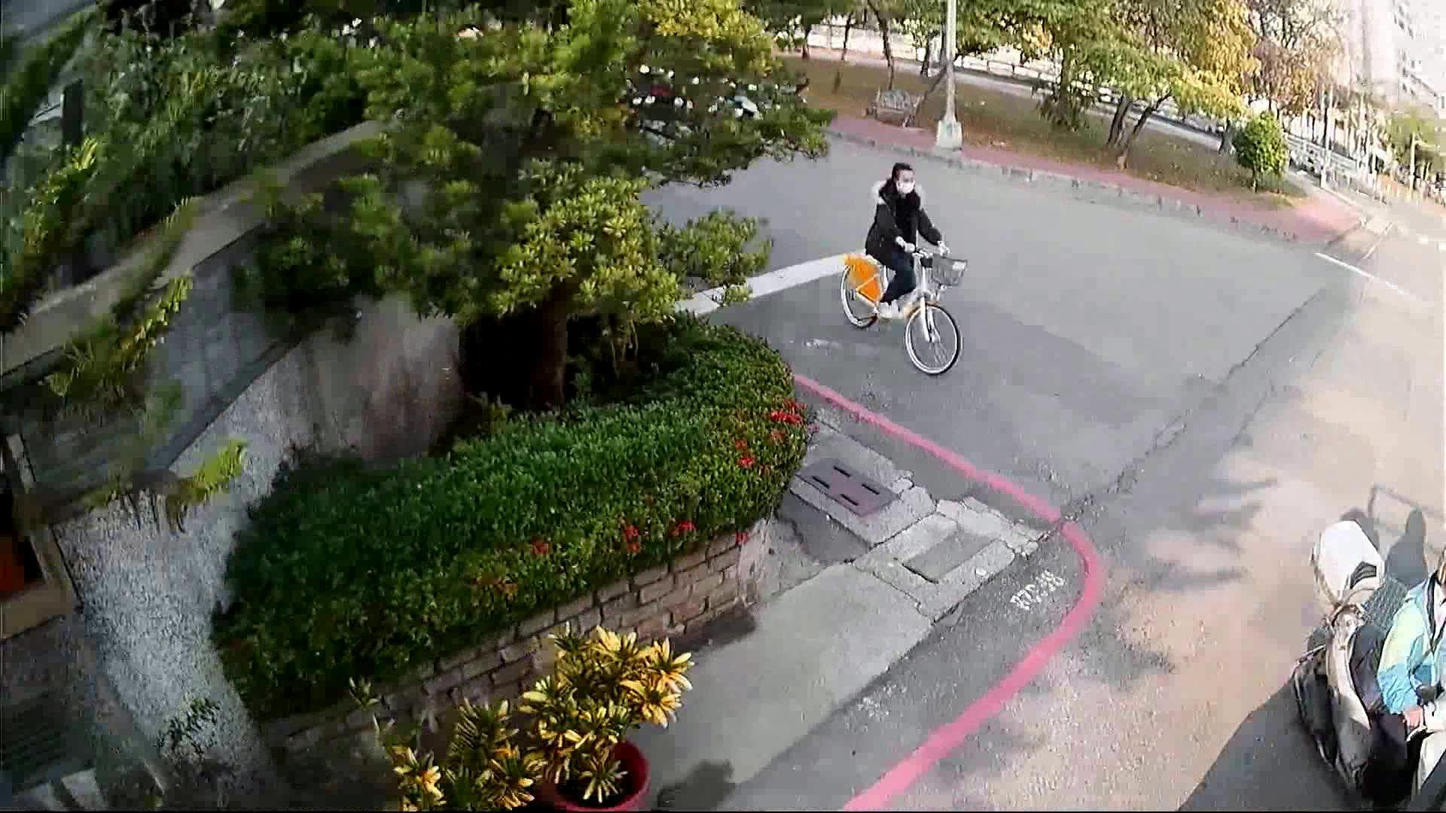person: (859, 155, 952, 318)
